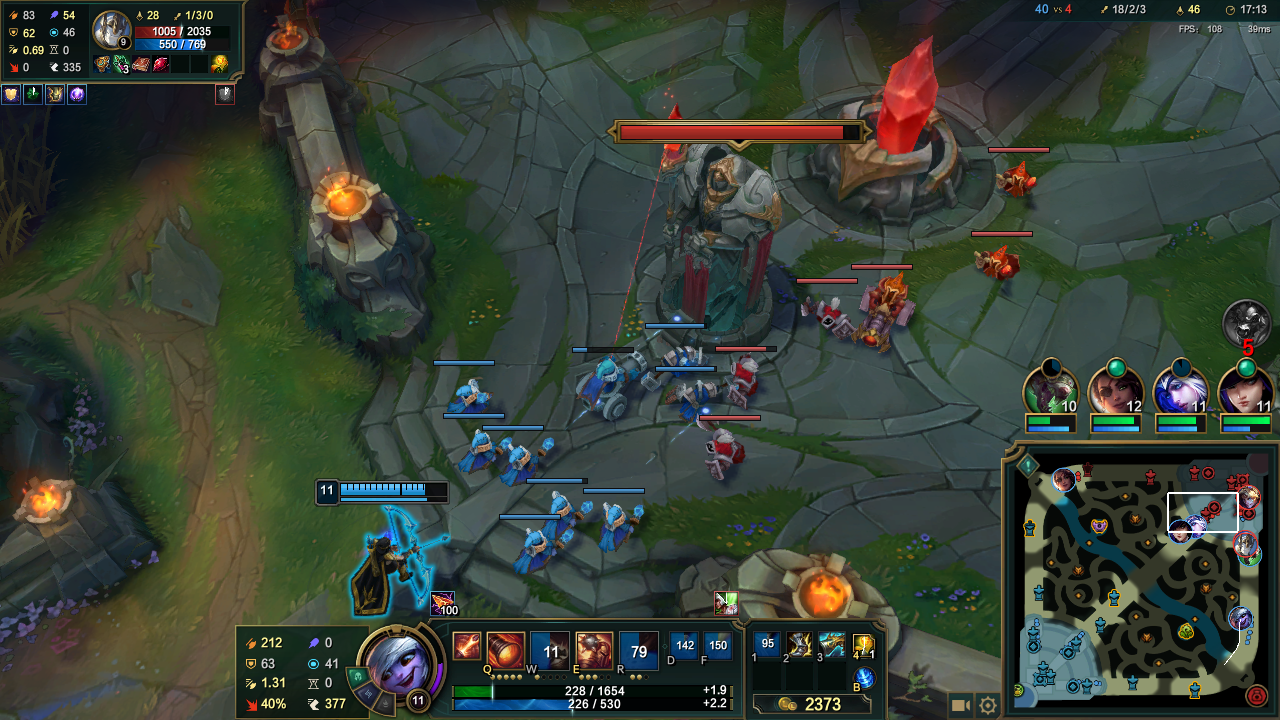DFFYT: (640, 141, 780, 343)
DFSJ: (816, 55, 959, 208)
DFXB: (854, 271, 929, 351), (794, 292, 865, 345), (962, 238, 1029, 288), (983, 158, 1048, 204), (719, 358, 775, 407), (698, 420, 748, 472)
WFXB: (572, 345, 648, 424), (643, 329, 704, 386), (655, 376, 717, 426), (544, 486, 594, 543), (500, 437, 561, 483), (597, 499, 649, 552), (511, 528, 569, 574), (462, 427, 513, 478), (448, 372, 492, 416)
